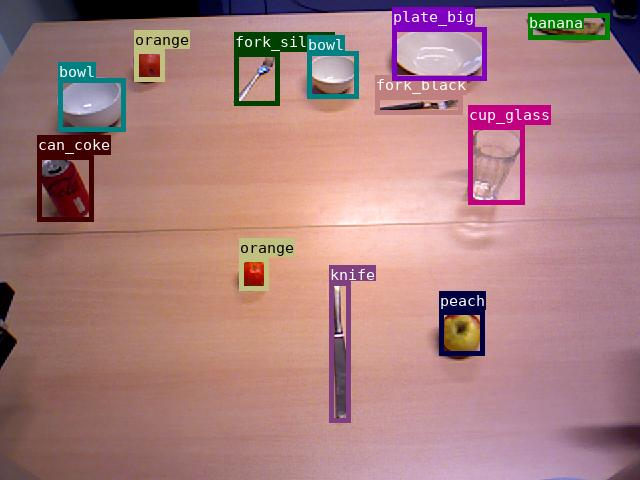banana: (528, 13, 609, 39)
bowl: (58, 78, 125, 131), (307, 51, 358, 98)
can_coke: (37, 155, 93, 221)
cup_glass: (468, 125, 524, 204)
fork_black: (375, 95, 462, 114)
fork_silver: (234, 52, 279, 105)
knife: (329, 281, 350, 422)
orange: (134, 49, 164, 81), (239, 257, 268, 290)
peach: (439, 310, 484, 355)
plate_big: (392, 27, 486, 80)
